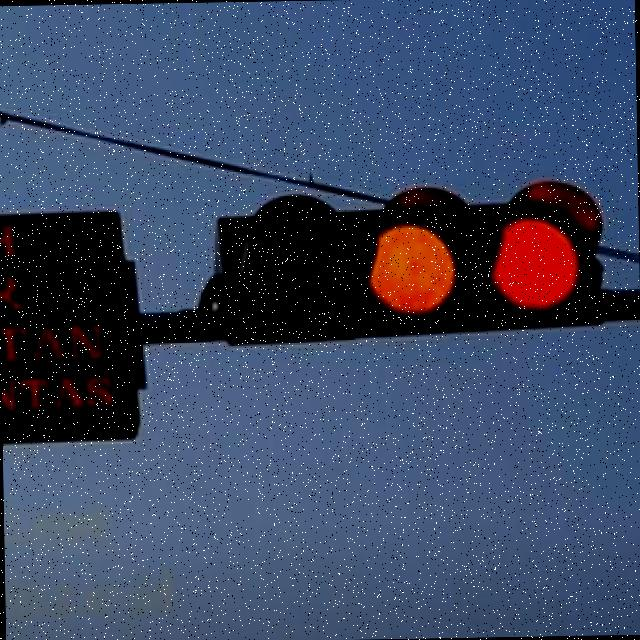Zolte swiatlo: (213, 178, 610, 346)
